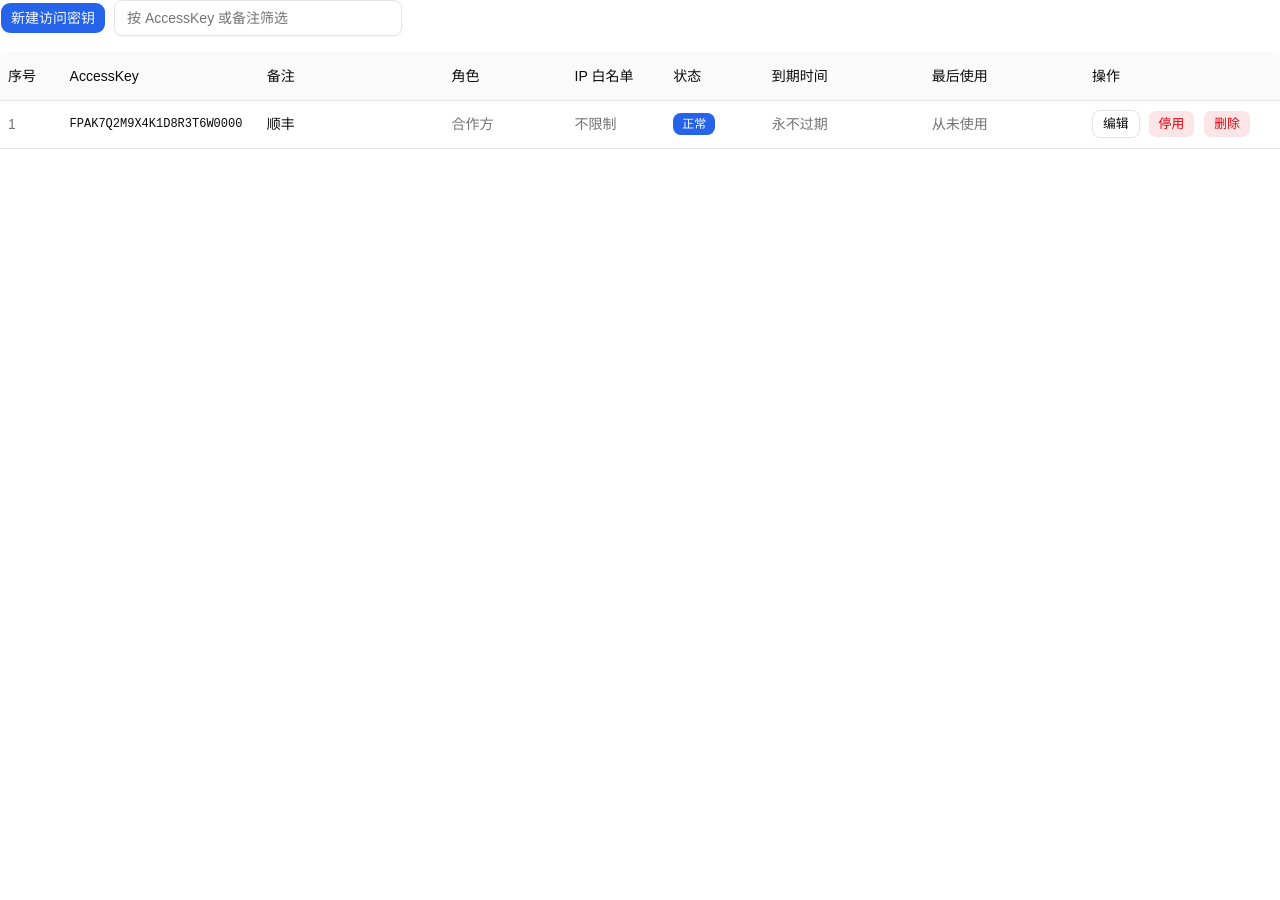
一次性密钥弹窗只能点「我已保存」关闭
The image size is (1280, 900).
Check: the text "顺丰" is shown, box [259,100,444,148]
Click the button "新建访问密钥".
click(53, 18)  # box [0,2,106,34]
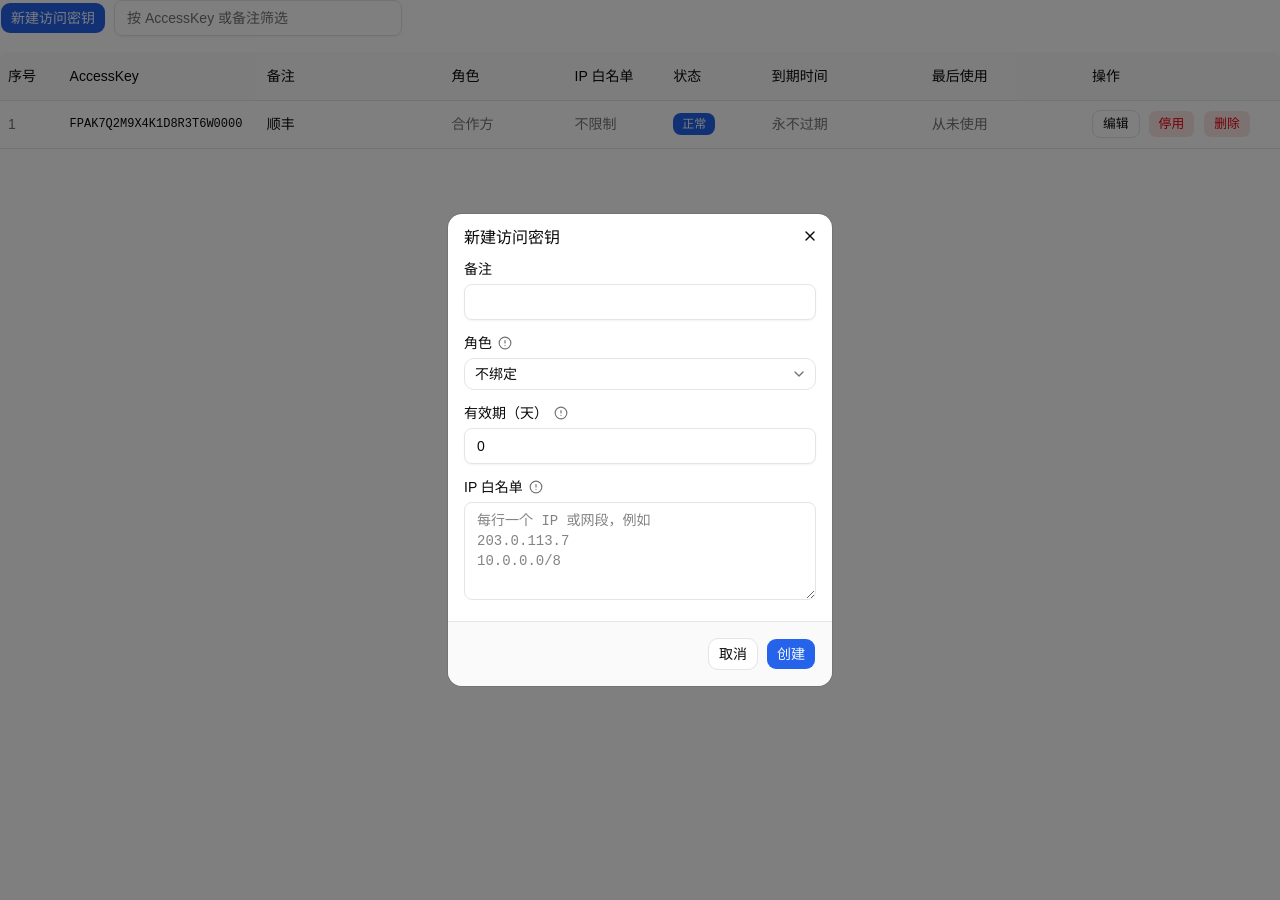
Type "圆通" into the field labelled "备注".
click(640, 302); type("圆通")  # box [464,284,816,320]
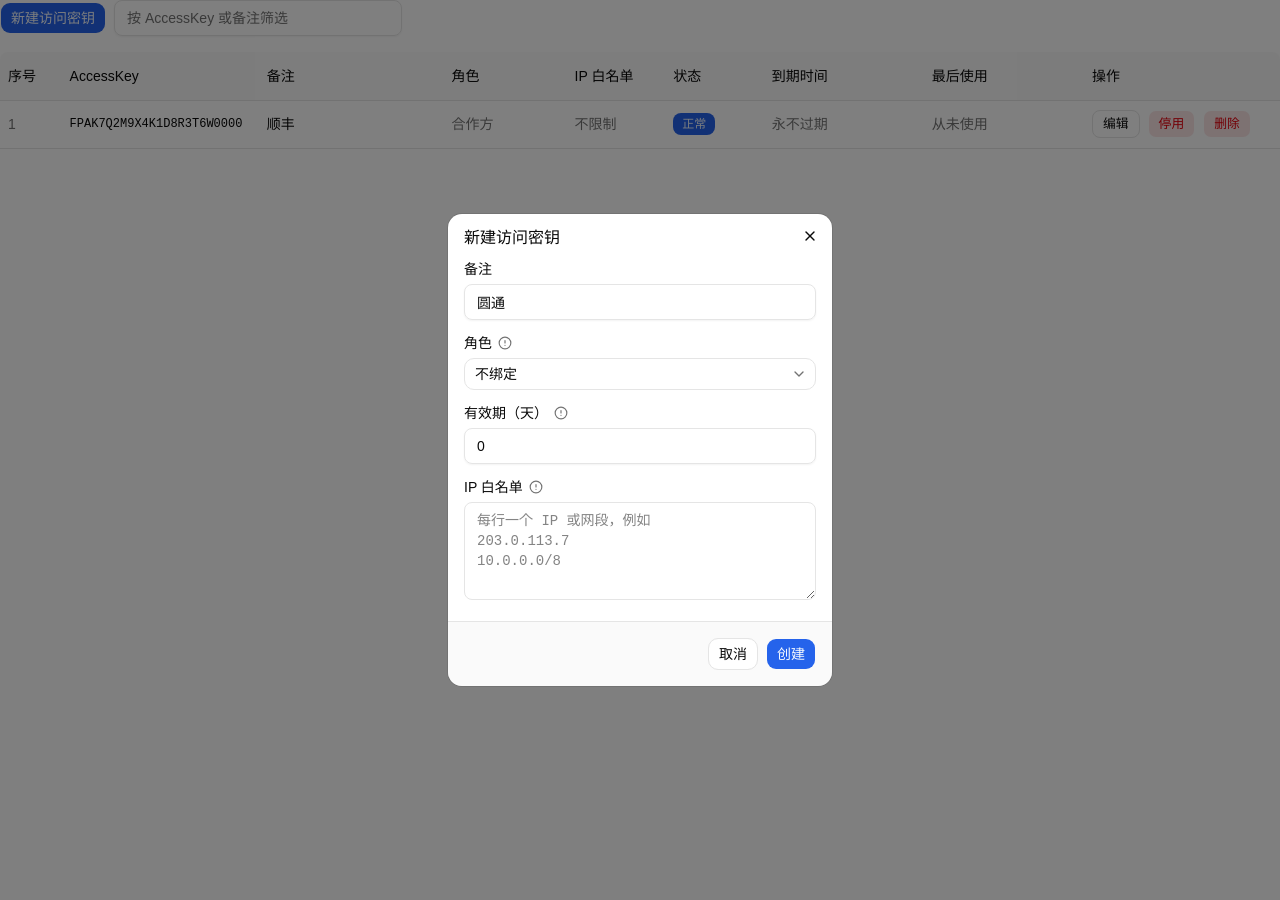
Click the button "创建".
click(791, 654)  # box [766,638,816,670]
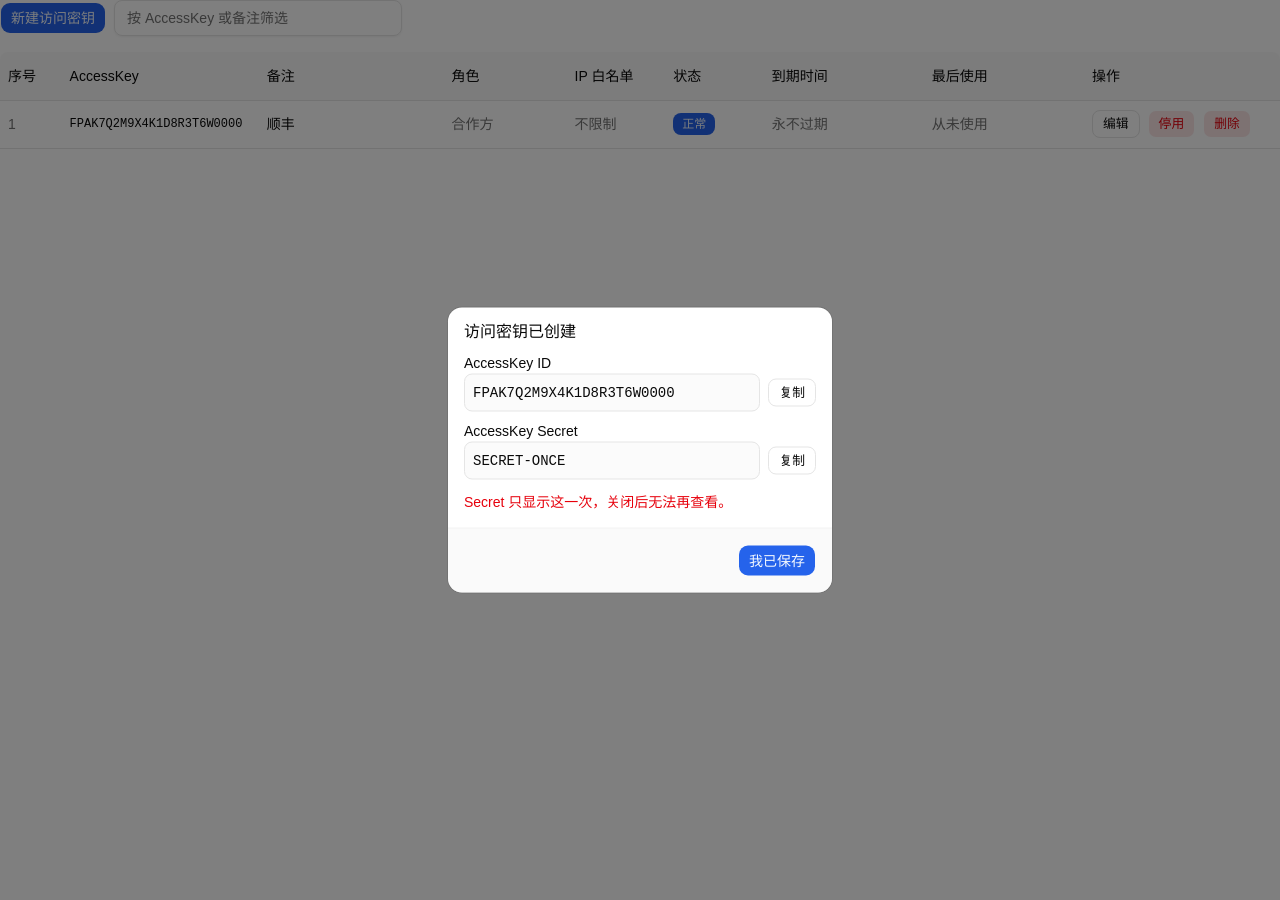
Check: the text "SECRET-ONCE" is shown, box [464,442,760,480]
Press Escape
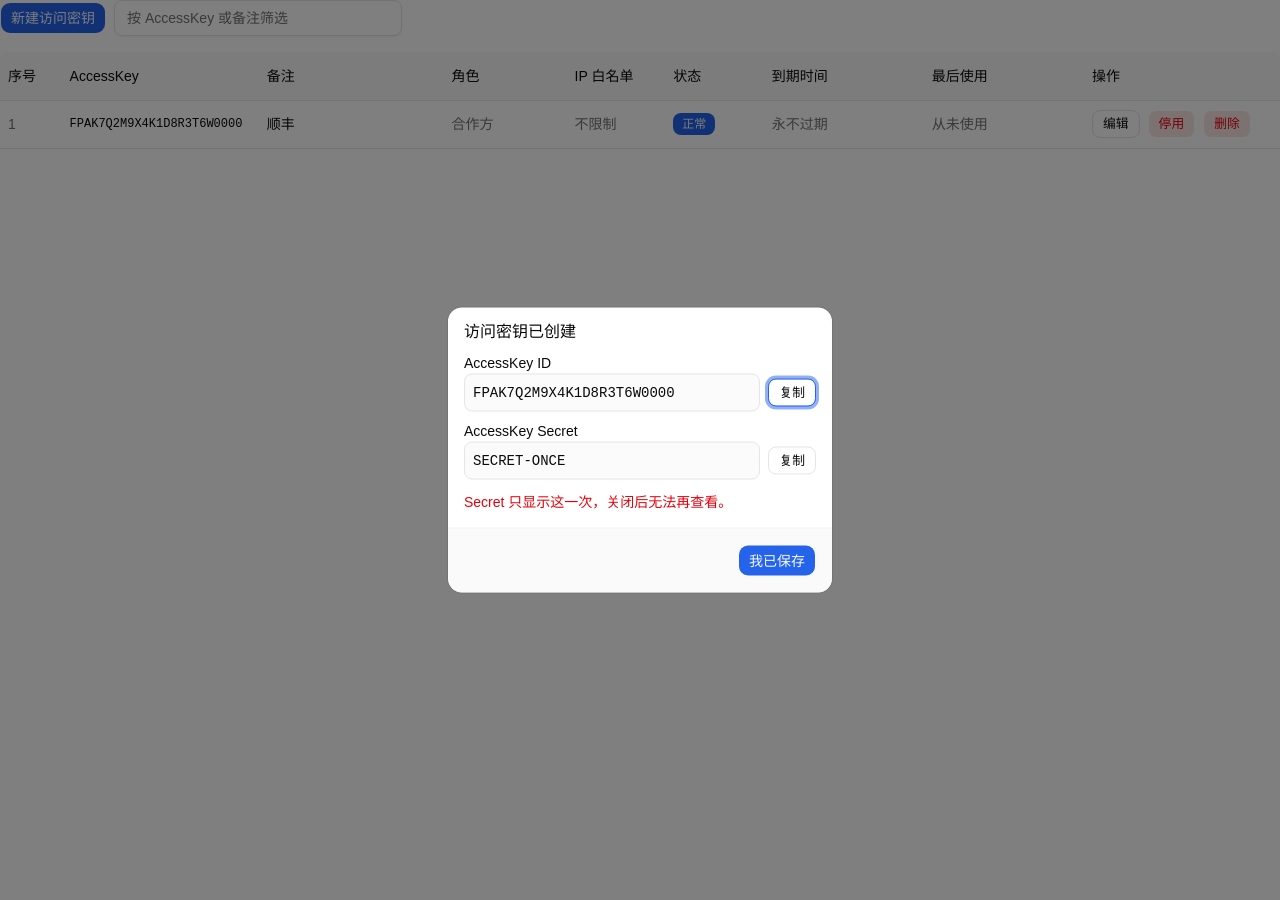
Check: the text "SECRET-ONCE" is shown, box [464,442,760,480]
Click the button "我已保存".
click(777, 560)  # box [738,544,816,576]
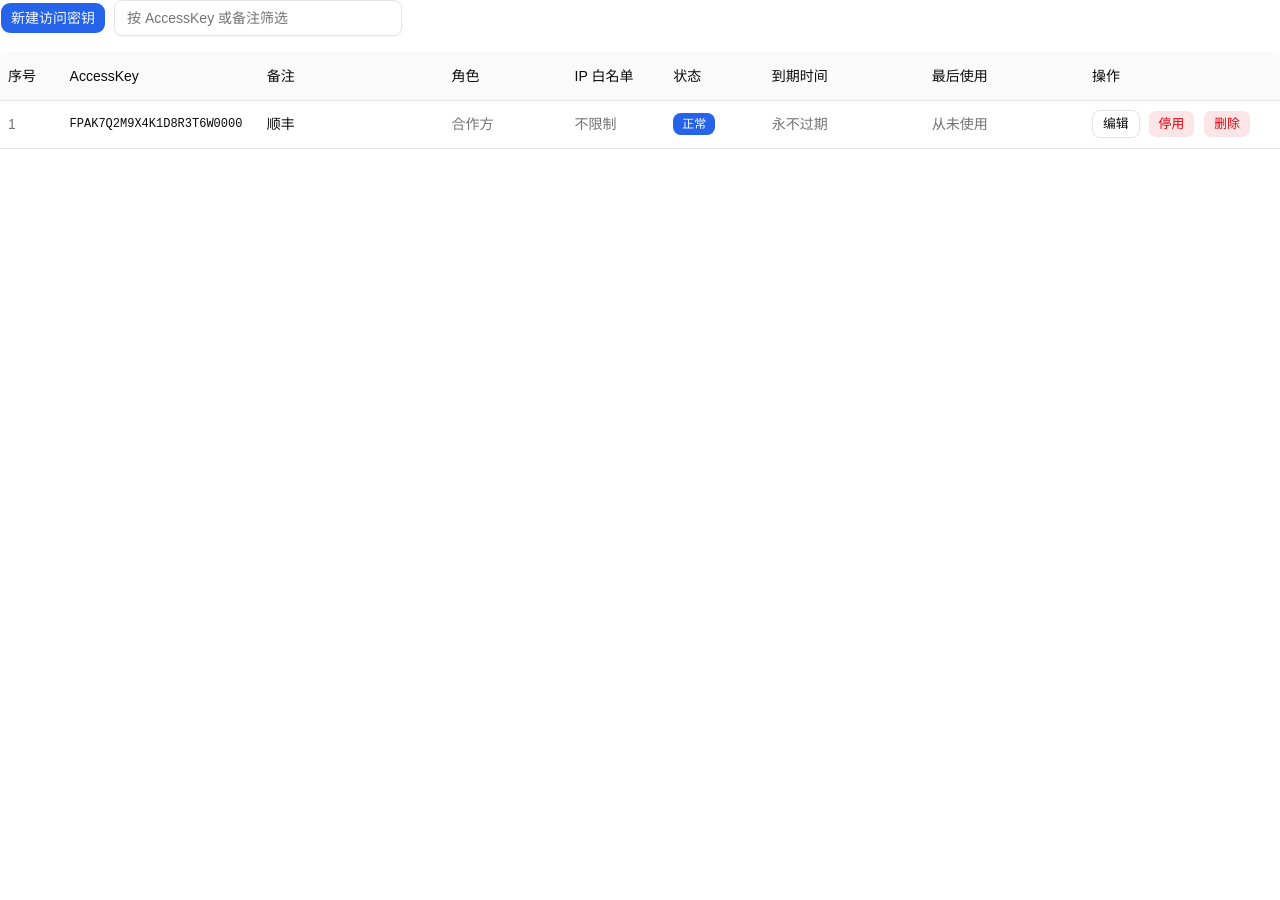
Check: the text "SECRET-ONCE" is gone
